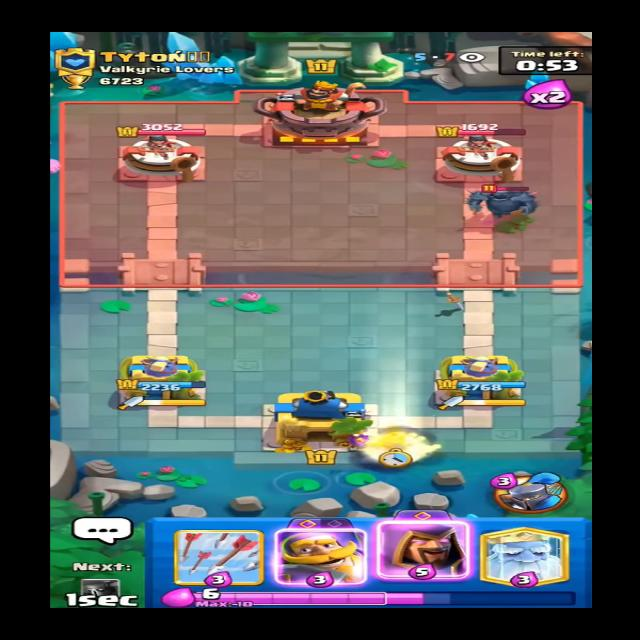Pekka: (466, 177, 546, 225)
